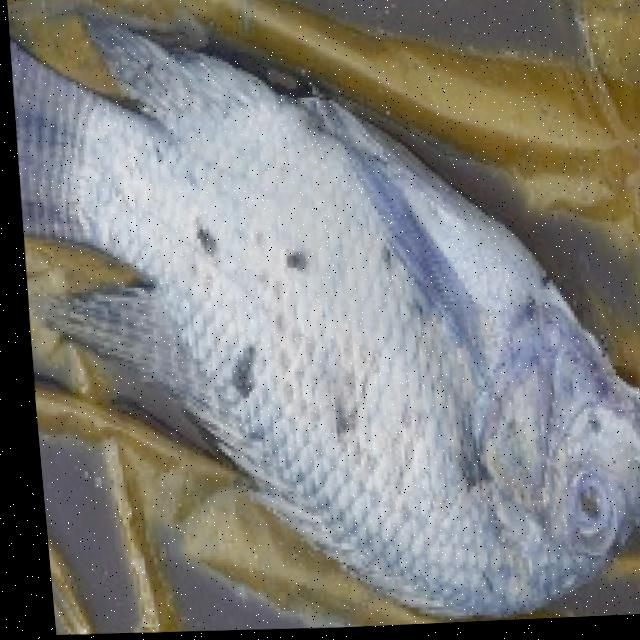Non-Fresh: (191, 161, 640, 634)
